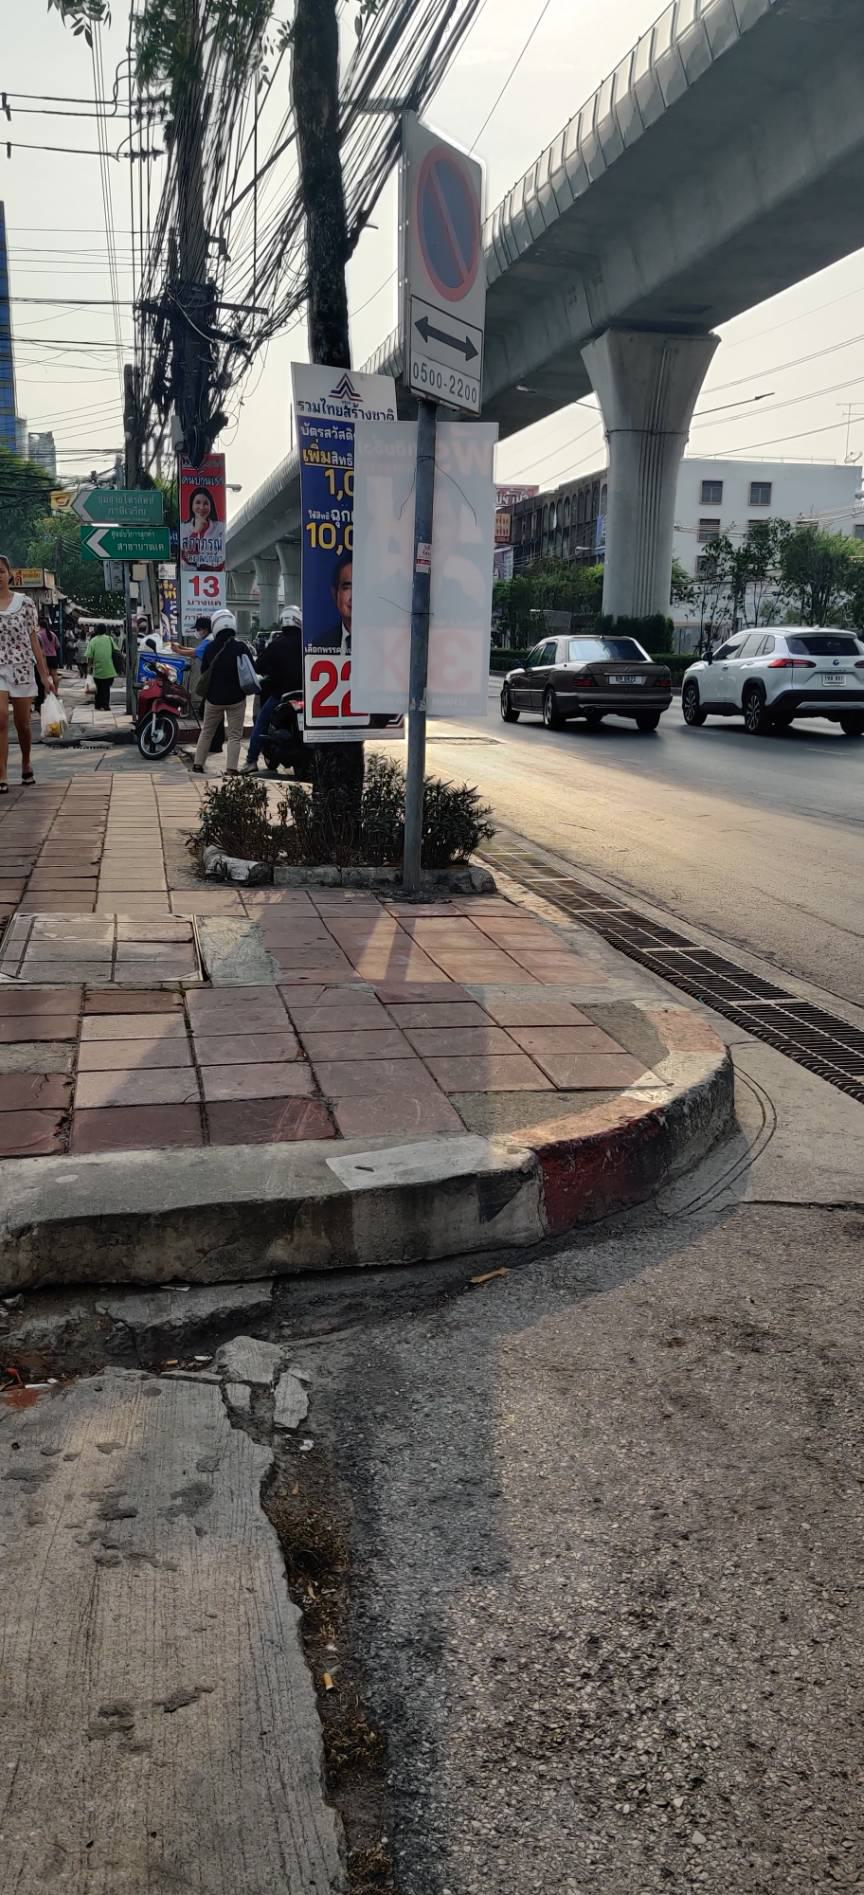Banner: (292, 357, 443, 771)
